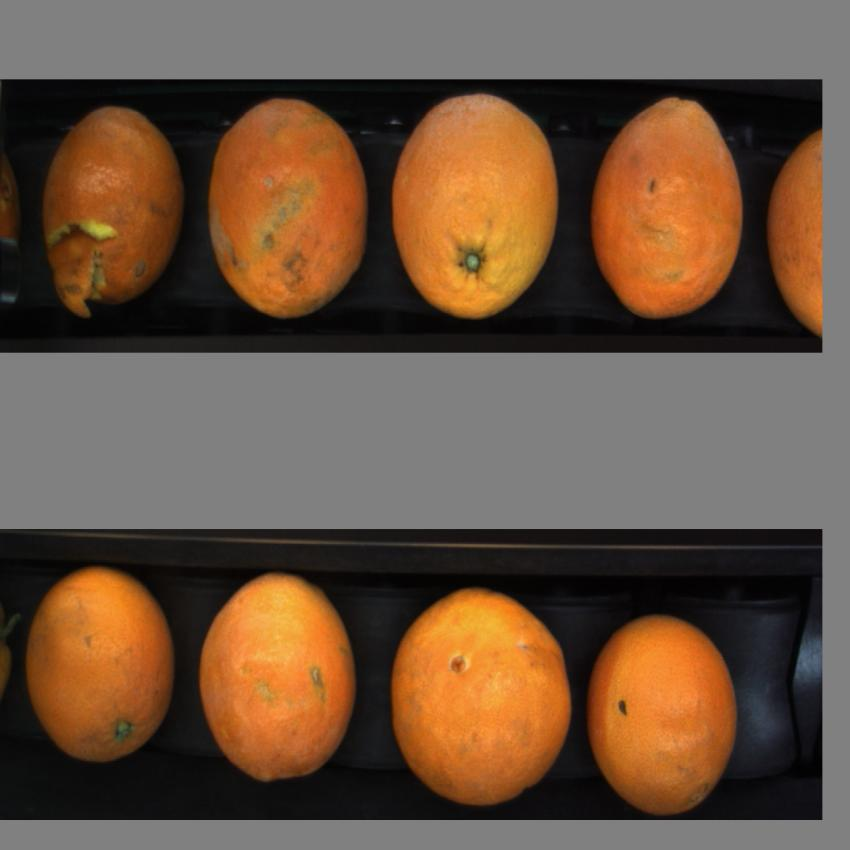Buen estado: (388, 582, 575, 802), (386, 92, 561, 326), (589, 94, 754, 327), (207, 95, 371, 324), (193, 576, 369, 781), (581, 610, 748, 812), (24, 558, 180, 772)
Mal estado: (39, 91, 185, 320), (765, 120, 823, 336)
